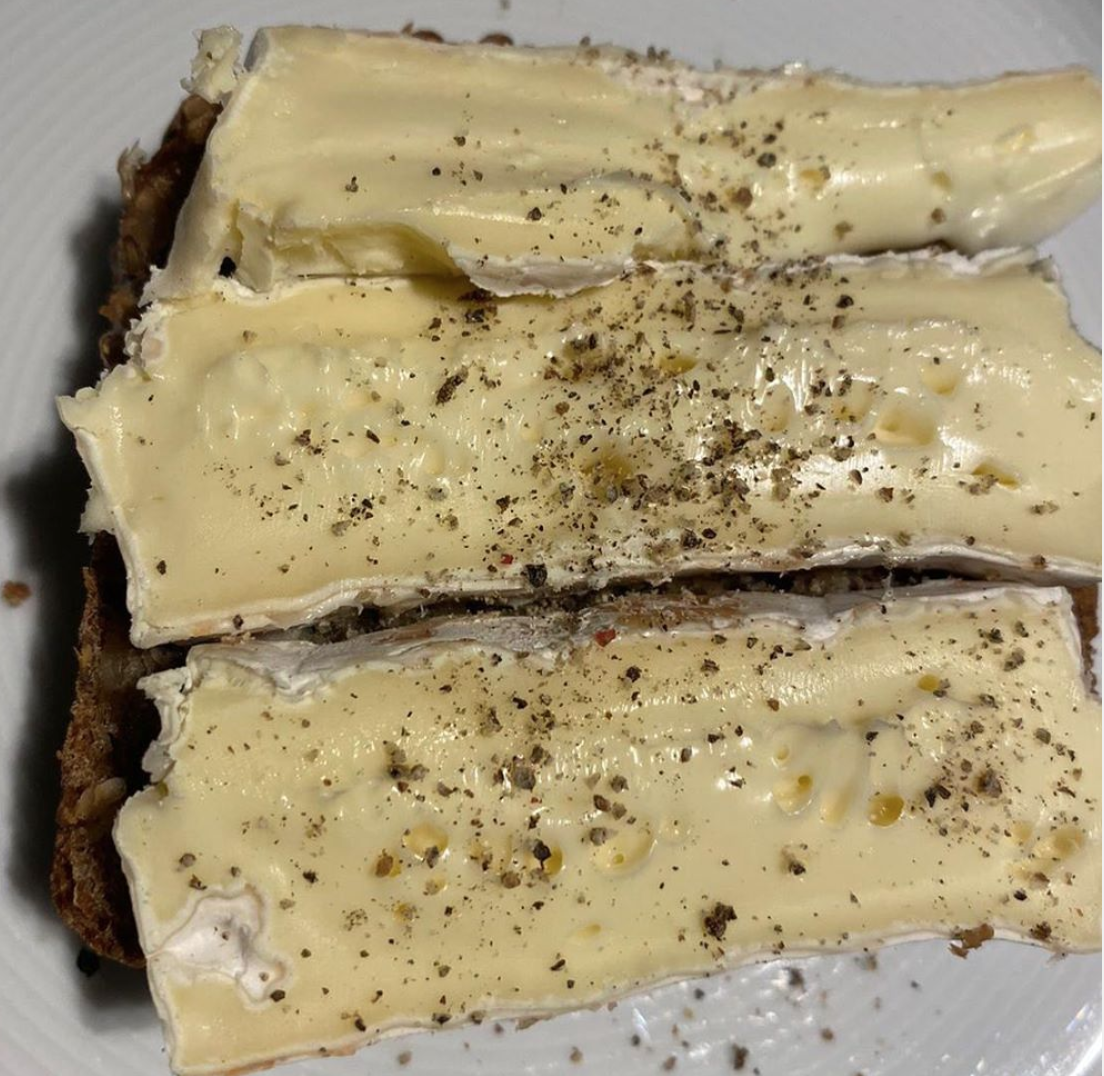camembert: (54, 23, 1104, 1071)
